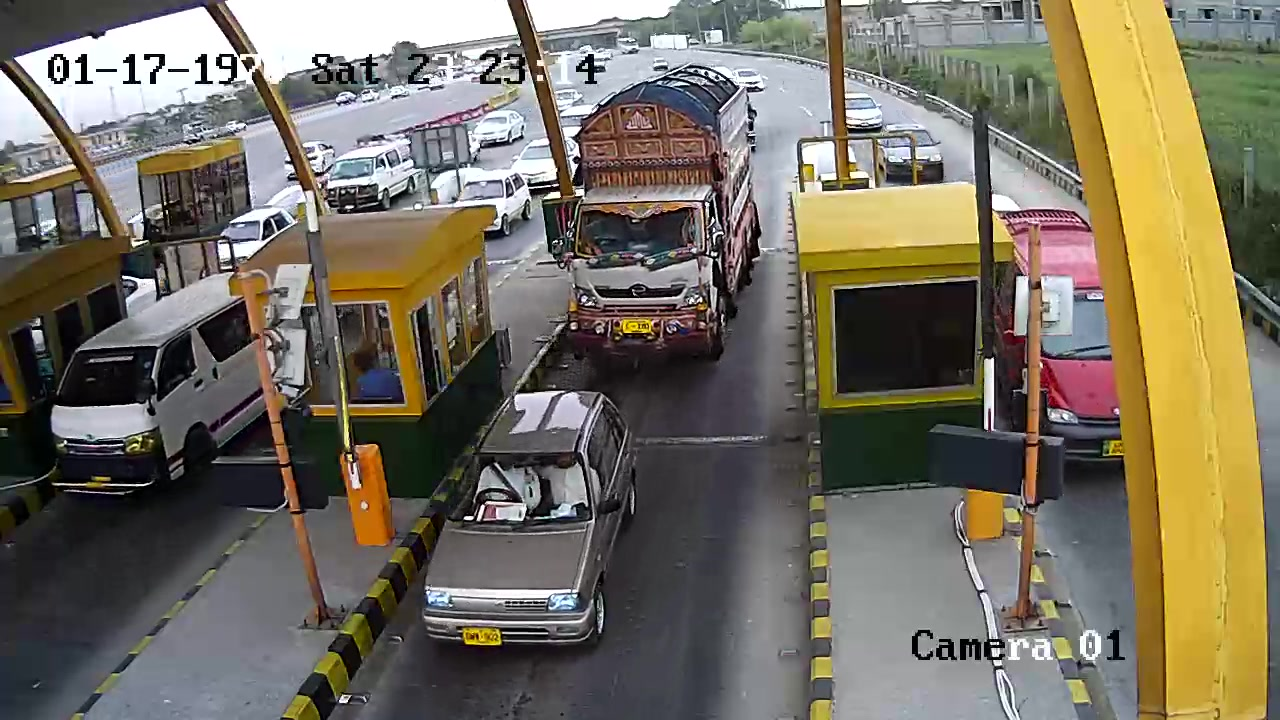F5: (566, 61, 762, 371)
